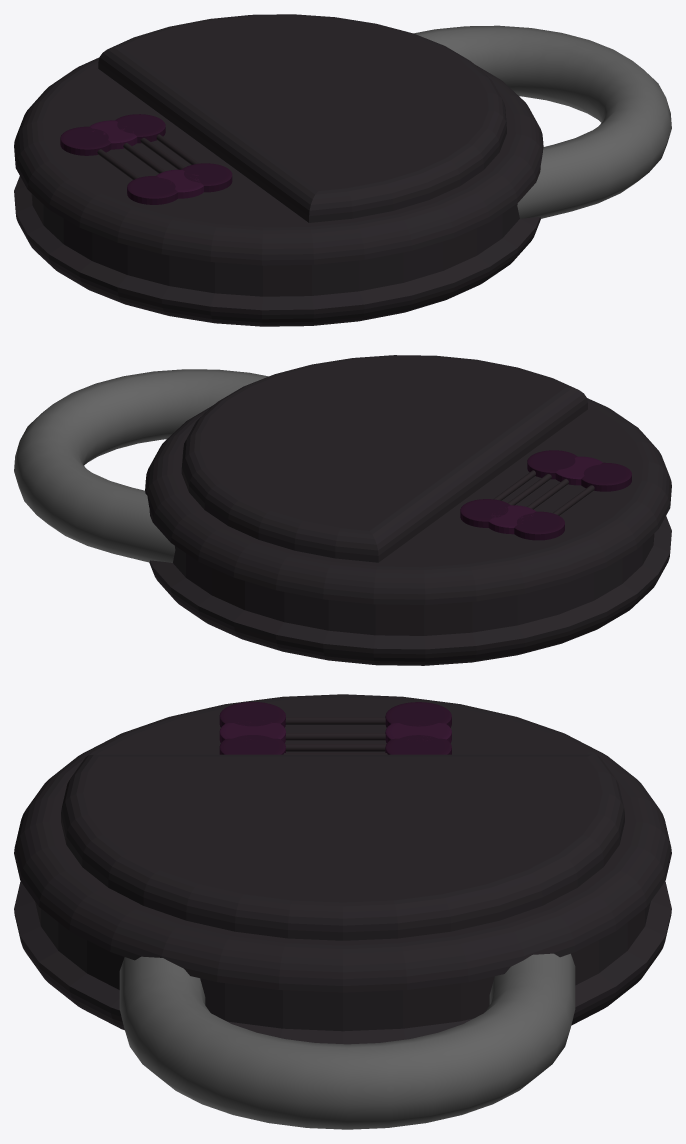
File: HashiNode.fbx
3 views of the same model, one above another, from view 1: azimuth 30°, elevation 25°; view 2: azimuth 150°, elevation 25°; view 3: azimuth 270°, elevation 25° (orthographic). The views are drawn at different scales.
Visible parts, largest first — view 1: HashiNode, Lock, TwoBridgeSymbol, OneBridgeSymbol; view 2: HashiNode, Lock, TwoBridgeSymbol, OneBridgeSymbol; view 3: HashiNode, Lock, TwoBridgeSymbol, OneBridgeSymbol.
Part boxes in pixels (bbox=[...]): HashiNode: bbox=[14, 14, 543, 326]; Lock: bbox=[414, 25, 671, 218]; TwoBridgeSymbol: bbox=[60, 114, 232, 204]; OneBridgeSymbol: bbox=[89, 120, 203, 198]; HashiNode: bbox=[145, 355, 671, 665]; Lock: bbox=[14, 369, 268, 562]; TwoBridgeSymbol: bbox=[460, 450, 631, 540]; OneBridgeSymbol: bbox=[488, 456, 602, 534]; HashiNode: bbox=[14, 694, 671, 1044]; Lock: bbox=[119, 953, 575, 1129]; TwoBridgeSymbol: bbox=[219, 702, 451, 754]; OneBridgeSymbol: bbox=[219, 720, 451, 743].
Size of the model in its own units: 261 by 200 by 49.67.
